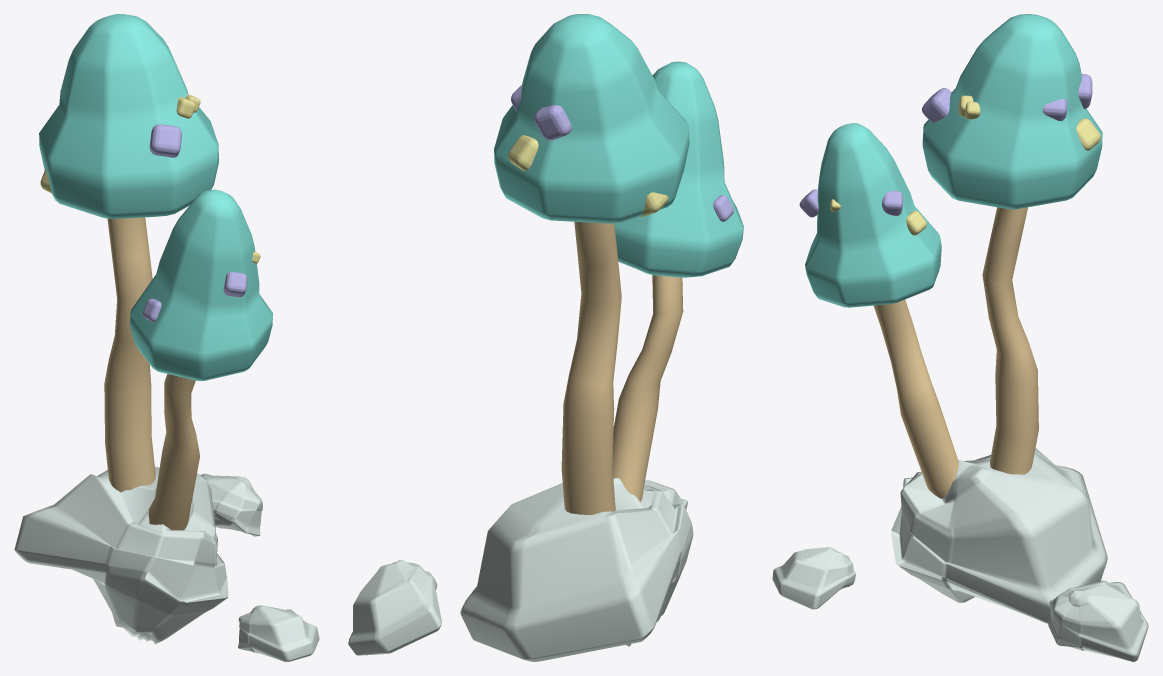
Rendered from Mush4.fbx.
The picture shows the model from 3 angles, left to right: view 1: azimuth 30°, elevation 25°; view 2: azimuth 150°, elevation 25°; view 3: azimuth 270°, elevation 25°; orthographic projection. The views are drawn at different scales.
Visible parts, largest first — view 1: pasted__pasted__pSphere14; view 2: pasted__pasted__pSphere14; view 3: pasted__pasted__pSphere14.
Boxes of the visible parts, bbox=[...] form: pasted__pasted__pSphere14: bbox=[14, 14, 319, 661]; pasted__pasted__pSphere14: bbox=[348, 14, 743, 661]; pasted__pasted__pSphere14: bbox=[772, 14, 1148, 661].
Size of the model in its own units: 0.2924 by 0.6695 by 0.3898.
